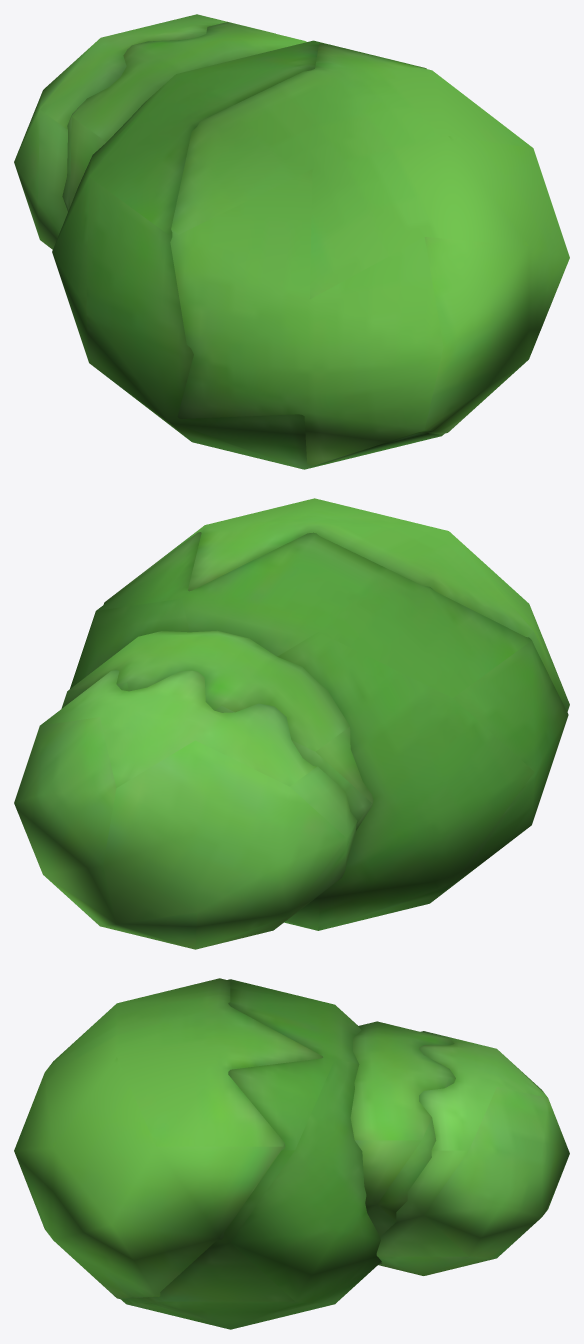
The model's file is bush_1_15.glb.
The picture shows the model from 3 angles, top to bottom: view 1: azimuth 30°, elevation 25°; view 2: azimuth 150°, elevation 25°; view 3: azimuth 270°, elevation 25°; orthographic projection. The views are drawn at different scales.
Visible parts, largest first — view 1: Mesh_0; view 2: Mesh_0; view 3: Mesh_0.
Part boxes in pixels (x1,y1,x2,y2): Mesh_0: [14, 14, 569, 469]; Mesh_0: [14, 498, 569, 949]; Mesh_0: [14, 978, 569, 1329].
Bounding box in the file's own units: 2.09 × 1.68 × 2.78.
Materials: 1 (1 with a texture image).
